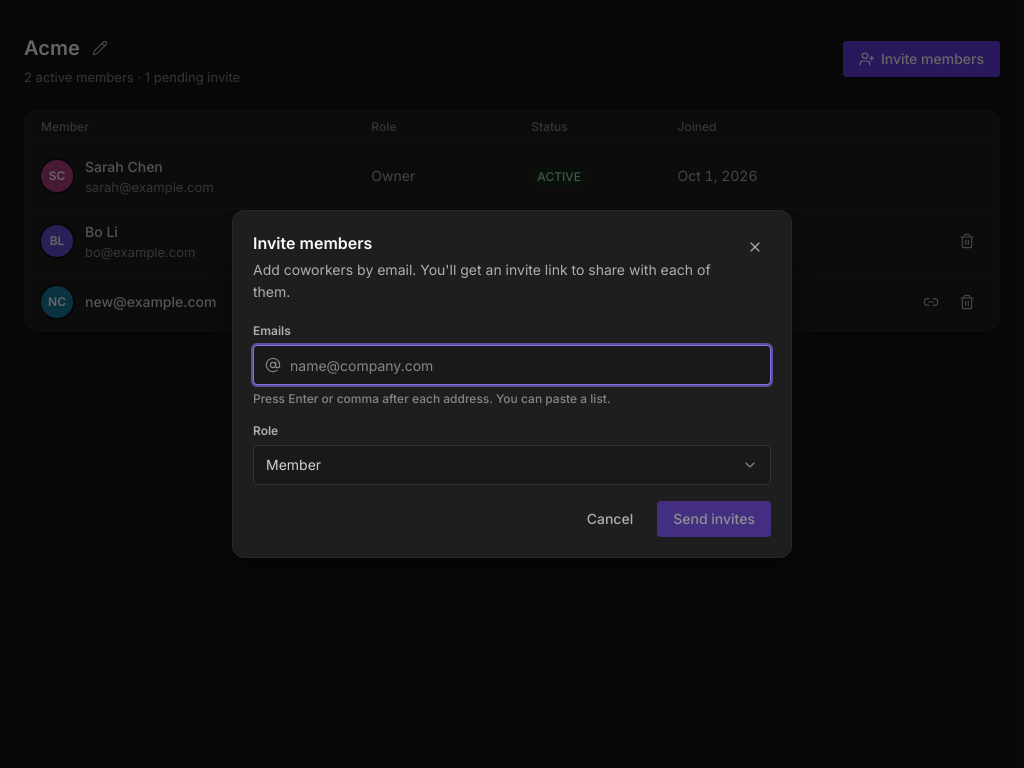
Test case: TeamView › invites by email chips and shows the copyable links
Type "not-an-email" into the field labelled "Emails" at (512, 365), box [253,345,771,385]
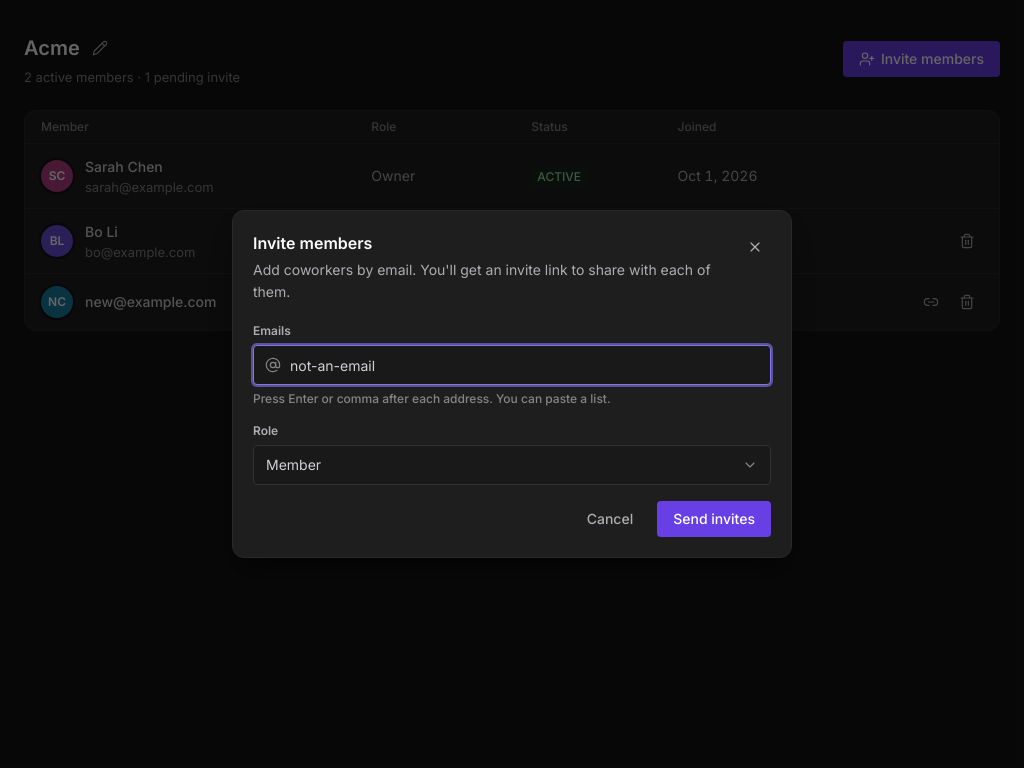
Press Enter in the field labelled "Emails", box [253,345,771,385]
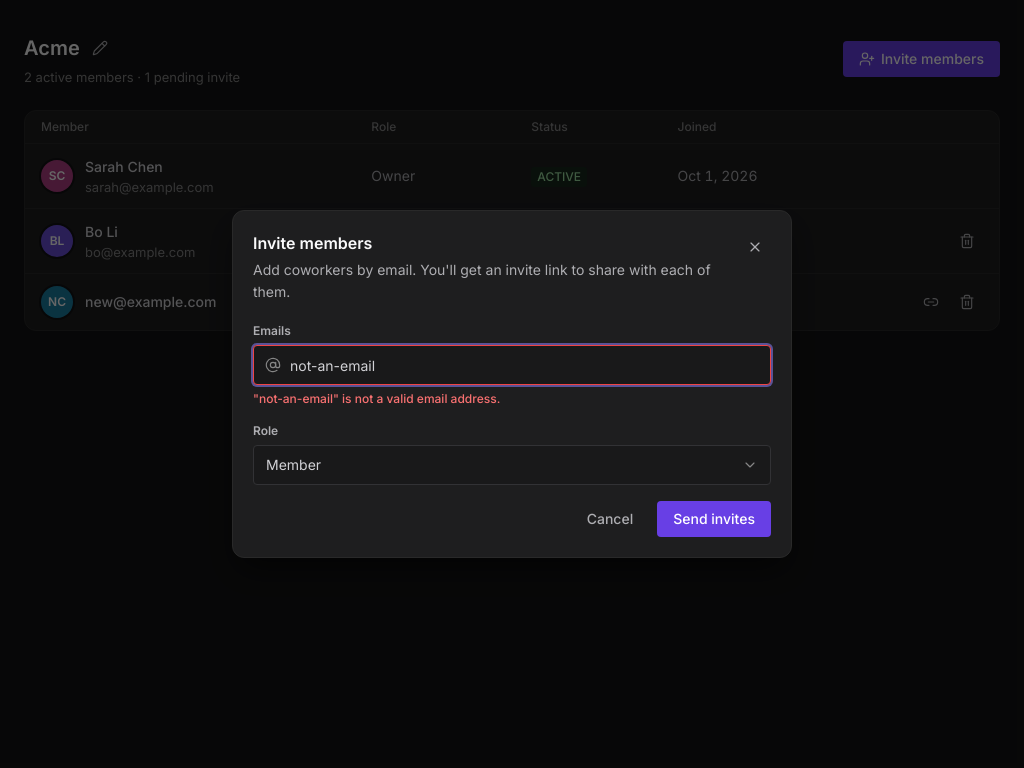
expect the message shows "valid email": met, box [253,391,500,406]
Replace the text in the field labelled "Emails" with "ana@example.com" at (512, 365), box [253,345,771,385]
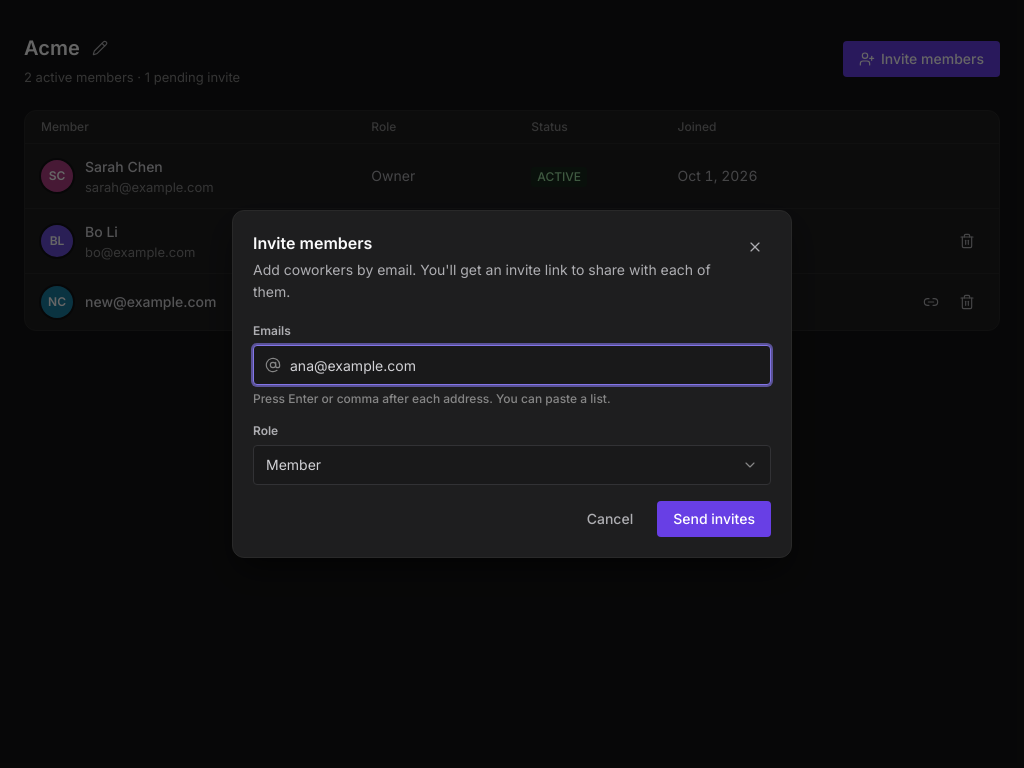
Press Enter in the field labelled "Emails", box [253,345,771,385]
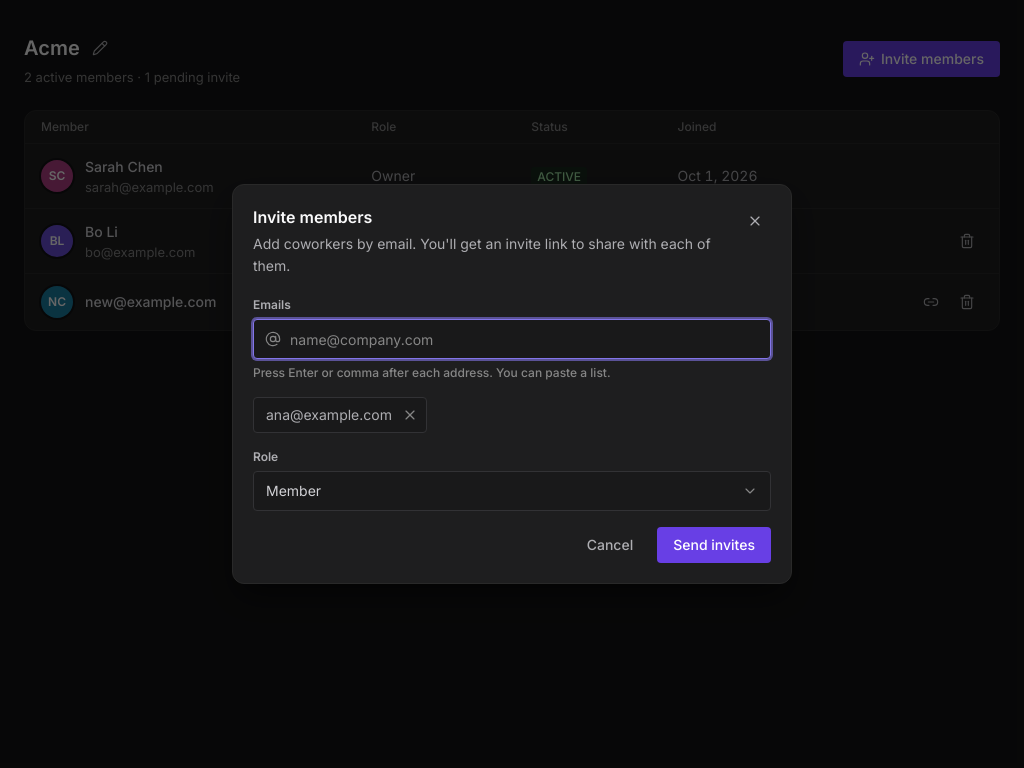
expect the button "ana@example.com" is shown: met, box [253,397,427,433]
Click the button "Send invites" at (714, 545), box [657,527,771,563]
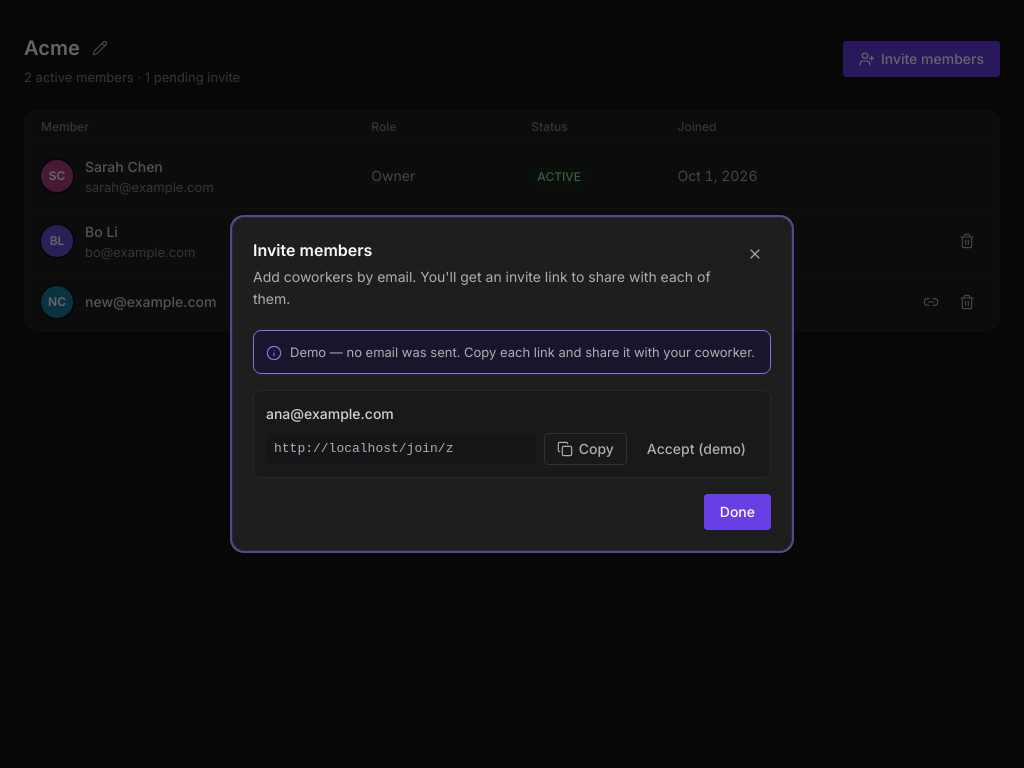
expect the text "no email was sent" is shown: met, box [290,344,755,360]
